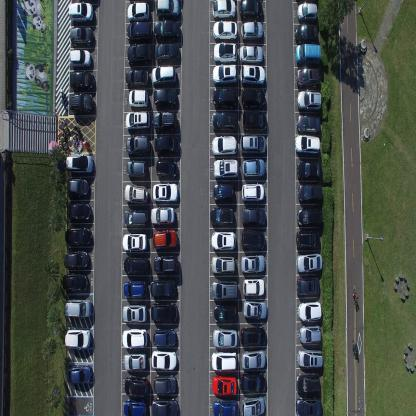car: (64, 226, 93, 249), (65, 153, 94, 176), (211, 135, 238, 159), (296, 158, 321, 183), (241, 349, 267, 373), (153, 182, 179, 206), (126, 19, 152, 43), (150, 301, 178, 323), (212, 86, 238, 109), (68, 0, 94, 23), (296, 206, 323, 228), (239, 134, 266, 156), (64, 328, 91, 350), (241, 109, 268, 131), (153, 19, 180, 41), (211, 350, 239, 371), (64, 298, 92, 319), (297, 182, 322, 205), (240, 63, 265, 86), (127, 42, 152, 65), (152, 230, 178, 252), (151, 276, 177, 298), (122, 326, 148, 348), (151, 348, 177, 370), (213, 158, 239, 180), (62, 272, 88, 294), (66, 363, 92, 385), (295, 42, 321, 64), (240, 87, 266, 109), (211, 110, 237, 132), (69, 70, 95, 92), (297, 348, 323, 370), (63, 250, 90, 271), (211, 279, 238, 300), (297, 372, 321, 395), (124, 279, 148, 302), (296, 274, 320, 297), (212, 374, 237, 396), (210, 253, 235, 275), (154, 253, 179, 275), (124, 256, 149, 278), (211, 230, 236, 252), (295, 134, 320, 156), (152, 110, 177, 132), (125, 110, 150, 132), (69, 92, 94, 114), (123, 376, 149, 397), (240, 325, 266, 346), (212, 327, 238, 348), (212, 20, 238, 41), (150, 65, 176, 86), (211, 64, 238, 84), (210, 205, 233, 228), (153, 373, 177, 395), (214, 301, 238, 323), (123, 350, 147, 372), (125, 208, 149, 230), (151, 205, 175, 227), (125, 185, 149, 207), (240, 227, 264, 249), (213, 42, 237, 64), (69, 48, 93, 70), (66, 179, 91, 200), (68, 202, 93, 223), (154, 134, 179, 155), (154, 42, 179, 63), (69, 26, 94, 47), (122, 304, 148, 324), (296, 252, 322, 272), (296, 90, 322, 110), (296, 396, 323, 415), (241, 181, 264, 203), (297, 66, 320, 88), (240, 20, 263, 42), (151, 398, 179, 416), (126, 135, 150, 156), (243, 299, 267, 320), (123, 234, 148, 254), (297, 301, 322, 321), (240, 373, 266, 392), (155, 0, 181, 19), (212, 181, 234, 203), (240, 254, 264, 274), (241, 206, 265, 226), (298, 324, 322, 344), (296, 229, 320, 249), (296, 113, 320, 133), (239, 0, 263, 20), (154, 88, 178, 108), (124, 68, 148, 88), (154, 327, 176, 348), (297, 1, 318, 23), (242, 158, 265, 178), (127, 0, 150, 20), (242, 277, 265, 297), (242, 396, 266, 415), (239, 44, 263, 63), (212, 0, 236, 19), (156, 158, 178, 178), (128, 88, 148, 110), (295, 23, 318, 42), (123, 397, 147, 415), (126, 160, 147, 179), (213, 400, 239, 415)
